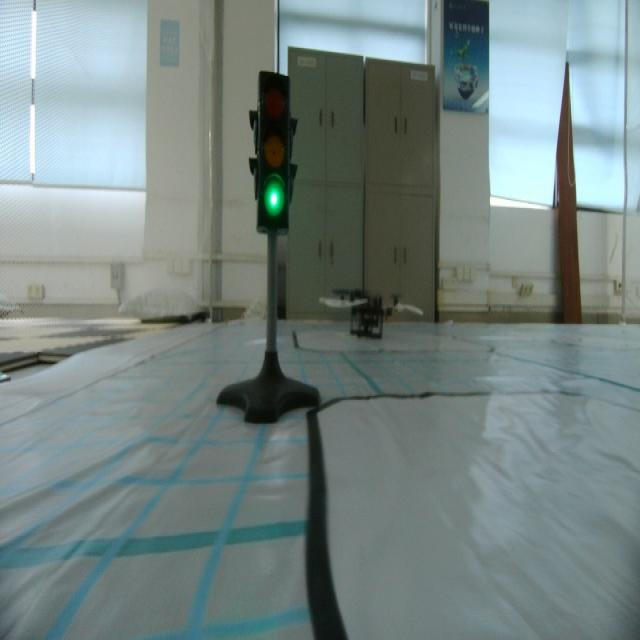green: (247, 69, 297, 237)
